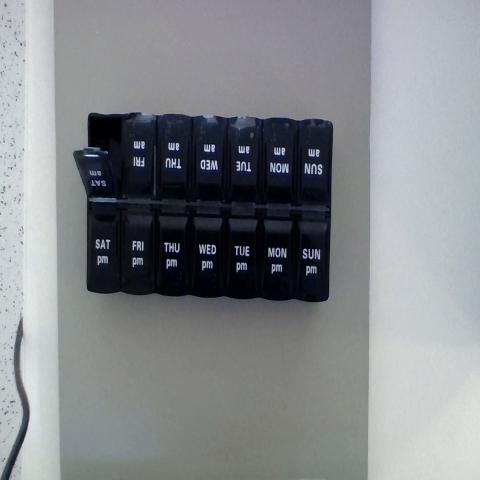FRI-am: (124, 118, 156, 205)
FRI-pm: (123, 212, 157, 293)
MON-am: (264, 116, 296, 201)
MON-pm: (263, 218, 297, 302)
Open: (74, 112, 122, 192)
PillBox: (74, 86, 344, 313)
SAT-pm: (90, 204, 122, 292)
SUN-am: (300, 125, 332, 209)
SUN-pm: (298, 214, 332, 298)
THU-am: (158, 121, 191, 204)
THU-pm: (154, 208, 194, 298)
TUE-am: (231, 118, 262, 202)
TUE-pm: (226, 217, 261, 303)
WED-am: (194, 119, 228, 206)
WED-pm: (192, 215, 227, 297)
